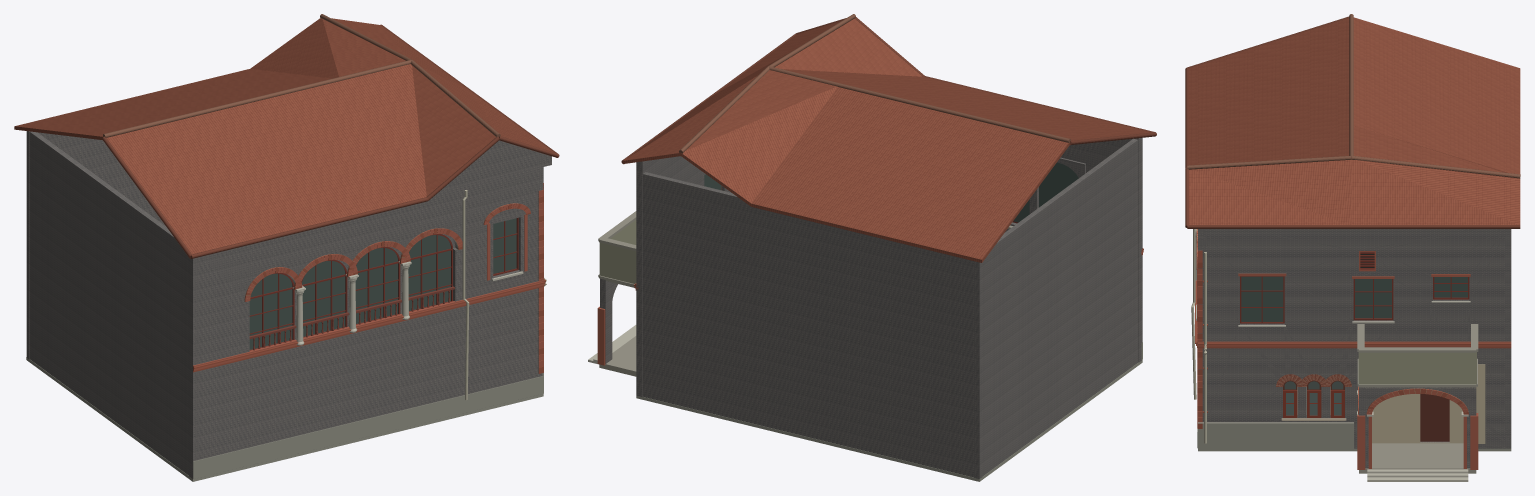
The model's file is changning-toyoda-yuyuan-1249-house-one-web.glb.
The picture shows the model from 3 angles, left to right: view 1: azimuth 30°, elevation 25°; view 2: azimuth 150°, elevation 25°; view 3: azimuth 270°, elevation 25°; orthographic projection. The views are drawn at different scales.
Parts seen in each view (by area): view 1: 丰田纱厂干部住宅（愚园路1249弄1号）; view 2: 丰田纱厂干部住宅（愚园路1249弄1号）; view 3: 丰田纱厂干部住宅（愚园路1249弄1号）.
Part boxes in pixels (x1,y1,x2,y2): 丰田纱厂干部住宅（愚园路1249弄1号）: [14, 14, 559, 481]; 丰田纱厂干部住宅（愚园路1249弄1号）: [588, 14, 1156, 481]; 丰田纱厂干部住宅（愚园路1249弄1号）: [1185, 14, 1520, 481].
Size of the model in its own units: 21.5 by 13.78 by 15.35.
Materials: 27 (2 with a texture image).
